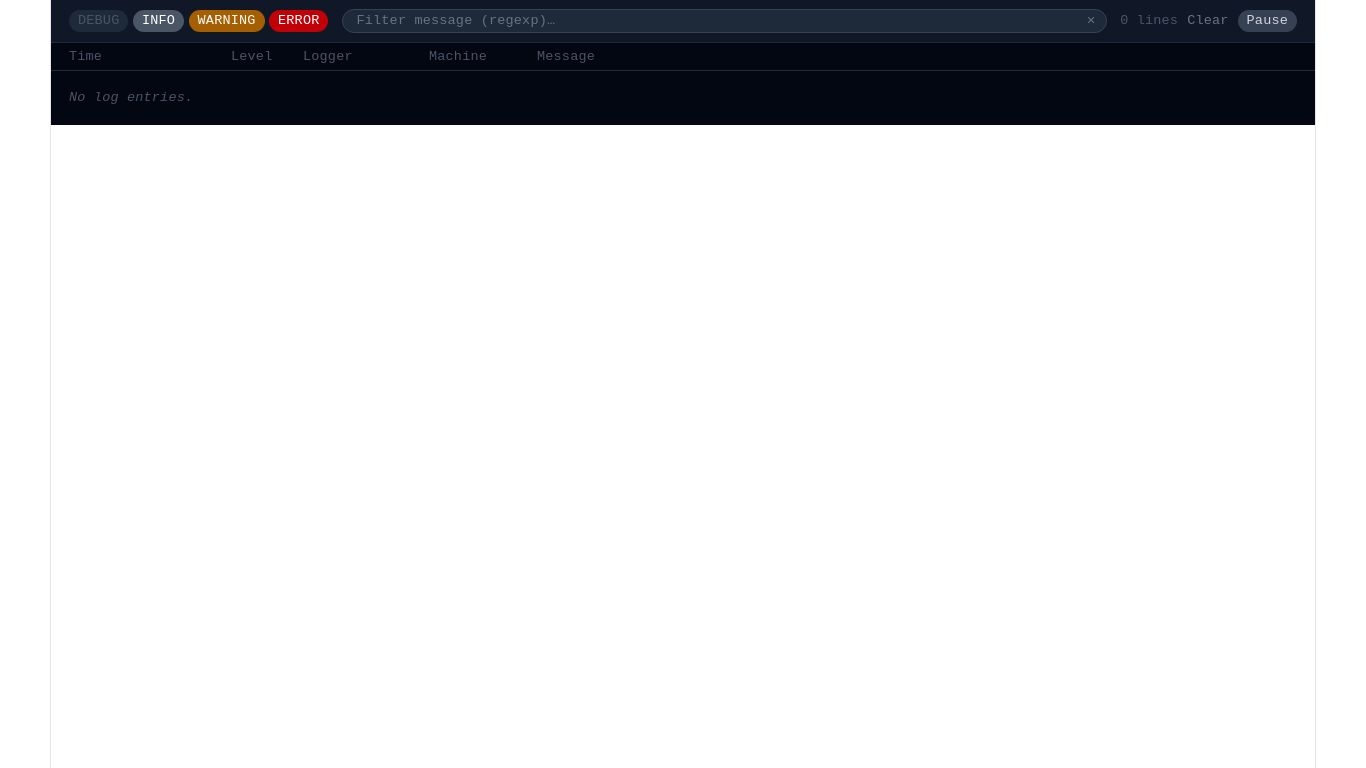
Scenario: LogViewer › shows DEBUG lines only when DEBUG toggle is enabled
What coordinates should you click on to do the following:
click the button "DEBUG"
I would click on:
 (99, 21)
Its box is [69,10,128,32].
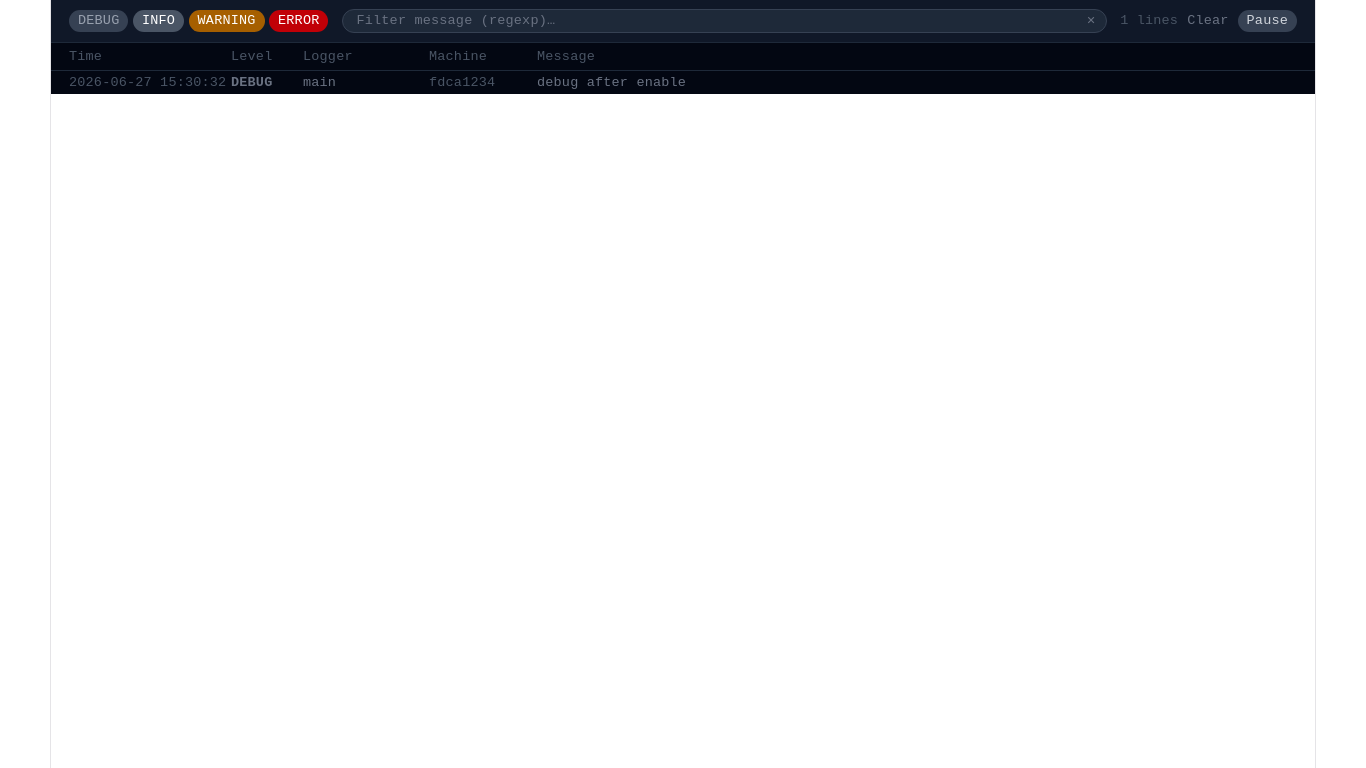
Expected: the text "debug after enable" is shown, [537,75,686,90]
